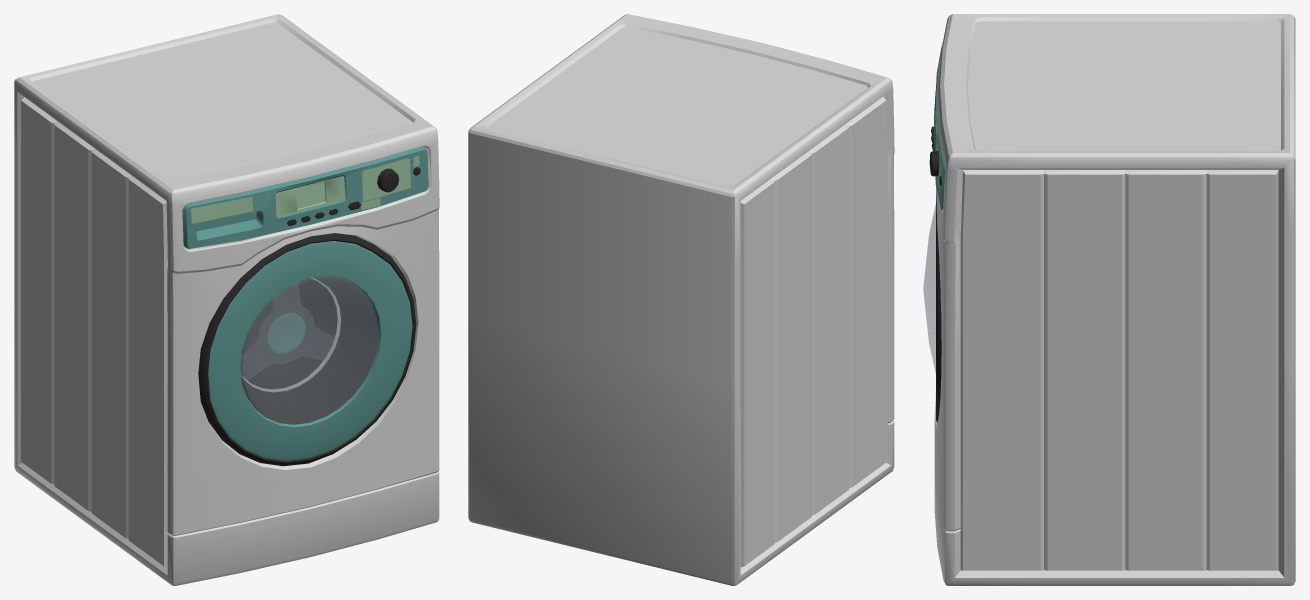
The model's file is HAIERXQG60Q1286.FBX.
3 renders of one model, left to right at view 1: azimuth 30°, elevation 25°; view 2: azimuth 150°, elevation 25°; view 3: azimuth 270°, elevation 25°, orthographic. The views are drawn at different scales.
Visible parts, largest first — view 1: HAIERXQG60Q1286; view 2: HAIERXQG60Q1286; view 3: HAIERXQG60Q1286.
Boxes of the visible parts, <box> form: HAIERXQG60Q1286: <box>14,14,439,585</box>; HAIERXQG60Q1286: <box>468,14,894,585</box>; HAIERXQG60Q1286: <box>923,14,1295,585</box>.
Size of the model in its own units: 1519 by 2134 by 1664.
